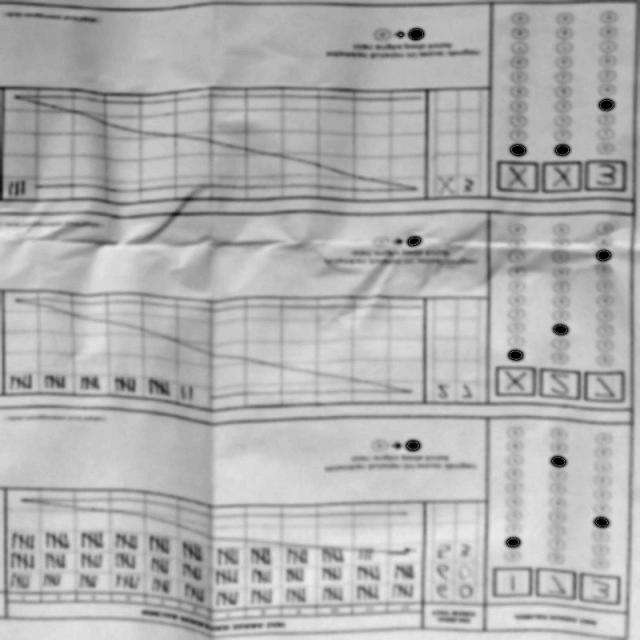Suara: (490, 368, 628, 407), (489, 568, 626, 606), (493, 158, 630, 196)
